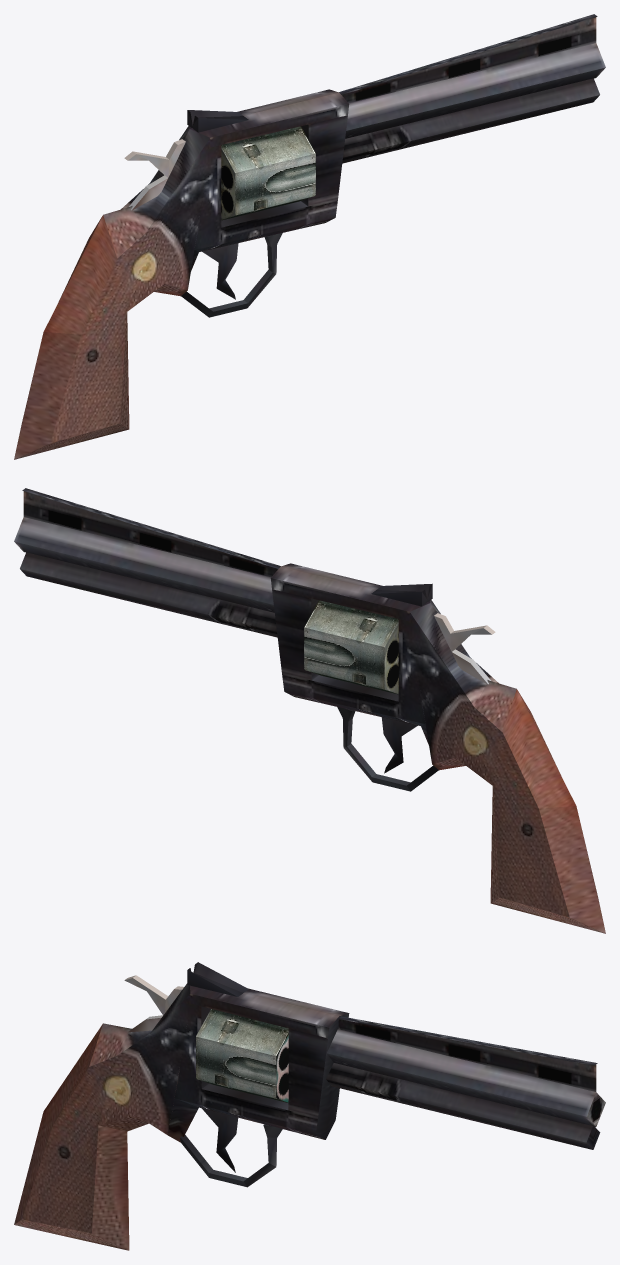
Rendered from revolver.glb.
The picture shows the model from 3 angles, top to bottom: view 1: azimuth 30°, elevation 25°; view 2: azimuth 150°, elevation 25°; view 3: azimuth 330°, elevation 25°; orthographic projection.
Visible parts, largest first — view 1: CPBody, CPCyilnder, CPTrigger&Hammer; view 2: CPBody, CPCyilnder, CPTrigger&Hammer; view 3: CPBody, CPCyilnder, CPTrigger&Hammer.
Boxes of the visible parts, x1=… form: CPBody: x1=14, y1=14, x2=605, y2=459; CPCyilnder: x1=221, y1=126, x2=315, y2=220; CPTrigger&Hammer: x1=124, y1=139, x2=238, y2=299; CPBody: x1=14, y1=488, x2=605, y2=933; CPCyilnder: x1=304, y1=600, x2=398, y2=694; CPTrigger&Hammer: x1=381, y1=613, x2=495, y2=773; CPBody: x1=14, y1=962, x2=605, y2=1250; CPCyilnder: x1=196, y1=1009, x2=288, y2=1102; CPTrigger&Hammer: x1=124, y1=975, x2=238, y2=1172.
Size of the model in its own units: 3.18 by 1.58 by 0.372.
Materials: 4 (4 with a texture image).
